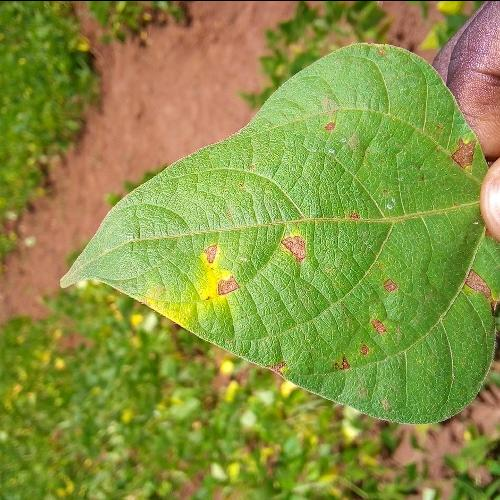embun tepung: (277, 217, 427, 384), (443, 108, 496, 186), (194, 237, 250, 306), (454, 247, 500, 324)
